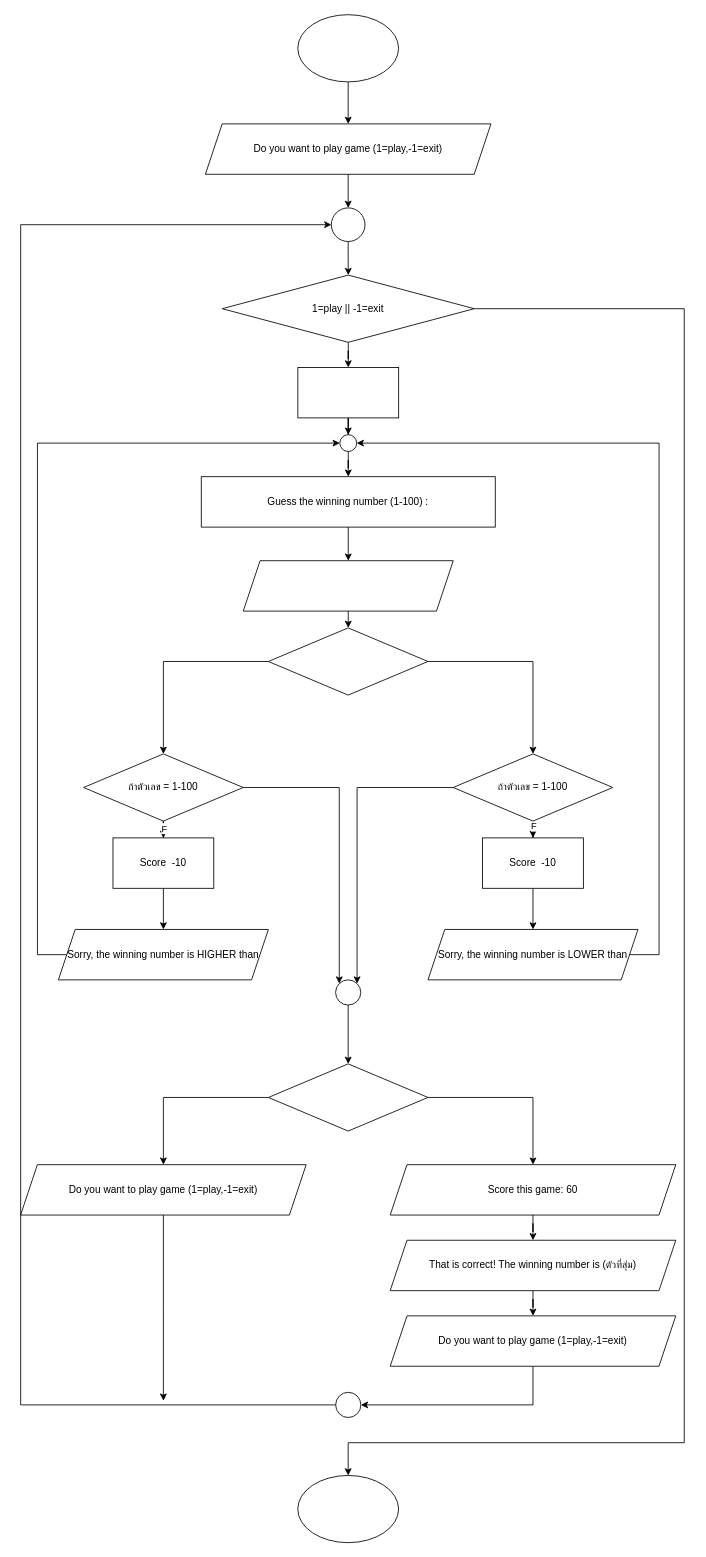
The diagram is 706 pixels wide and 1557 high, and some of its shapes have lost their labels. The shapes that lost their labels are listed below. From the top down, each one's box as (x1, y1, x2, y2) in pixels, then its label:
(297, 14, 399, 82): Start
(297, 367, 399, 418): Score=100
(242, 560, 453, 611): Guess the winning number (1-100)
(268, 627, 428, 695): ตรวจสอบตัวเลย
(268, 1063, 428, 1131): Score = 0 หริอ ไม่
(297, 1475, 399, 1543): End
